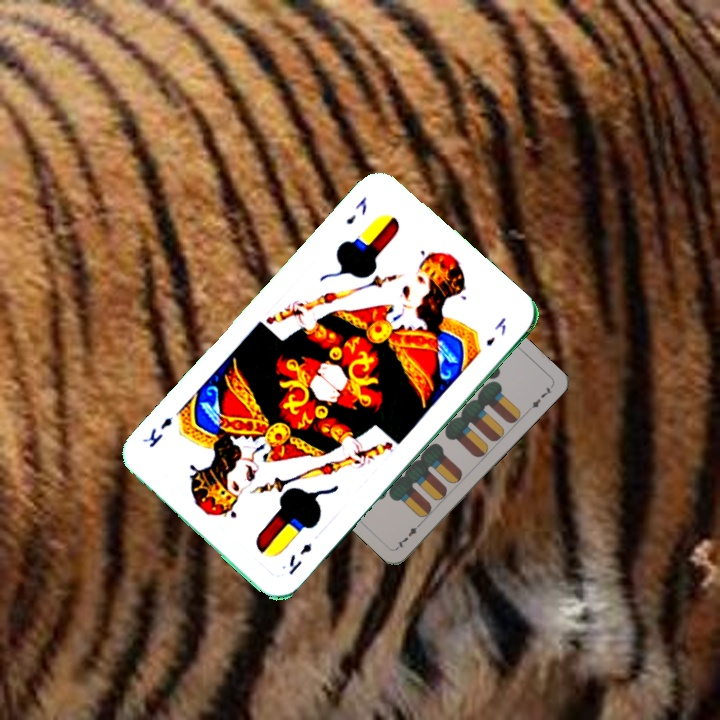E7: (393, 518, 424, 551)
EK: (284, 539, 315, 578), (341, 193, 370, 227)
